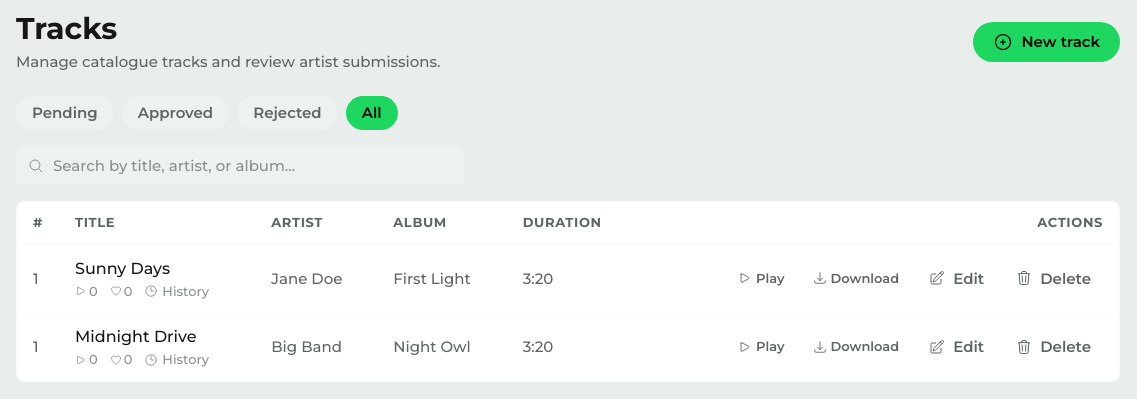
Scenario: AdminTracksListPage search › filters tracks by title, artist, or album — case-insensitively — and shows a no-results state
Expected: the text "Sunny Days" is shown, [75,257,170,281]
Expected: the text "Midnight Drive" is shown, [75,325,196,349]
Type "SUNNY" into the field named "Search tracks" at (240, 166), box [16,146,464,185]
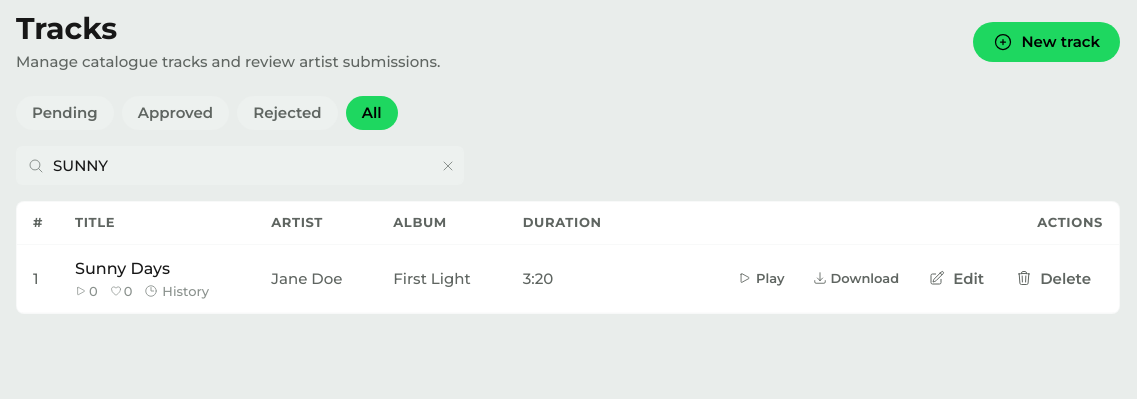
Expected: the text "Sunny Days" is shown, [75,257,170,281]
Now the text "Midnight Drive" is gone
Replace the text in the field named "Search tracks" with "big band" at (240, 166), box [16,146,464,185]
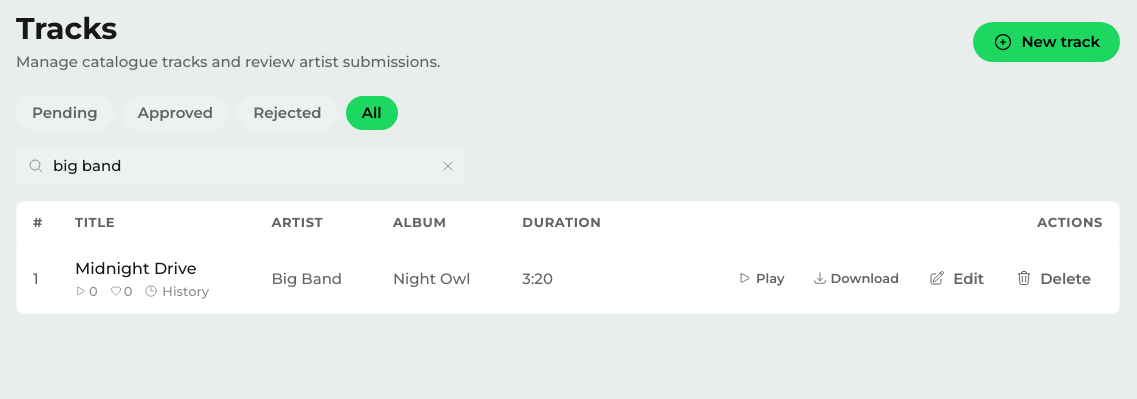
Now the text "Midnight Drive" is shown, box [75,257,196,281]
Now the text "Sunny Days" is gone
Replace the text in the field named "Search tracks" with "night owl" at (240, 166), box [16,146,464,185]
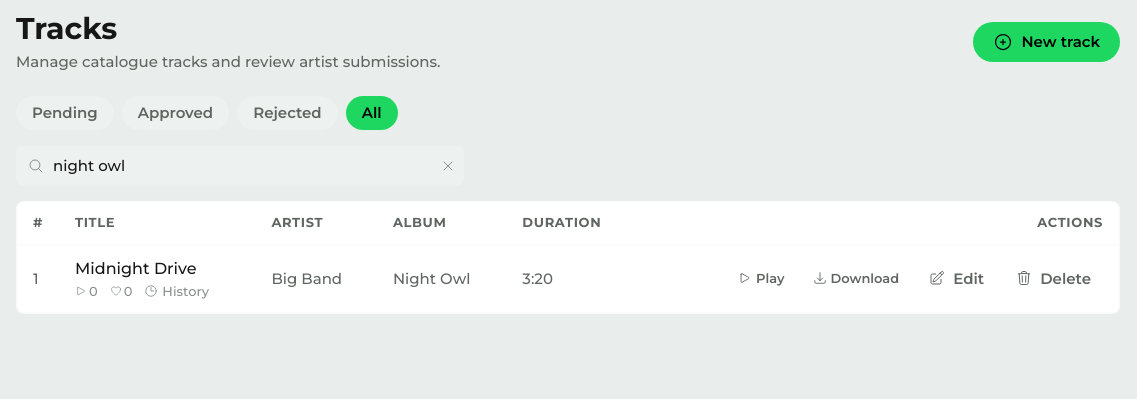
Expected: the text "Sunny Days" is not shown
Now the text "Midnight Drive" is shown, box [75,257,196,281]
Replace the text in the field named "Search tracks" with "nope-nothing-matches" at (240, 166), box [16,146,464,185]
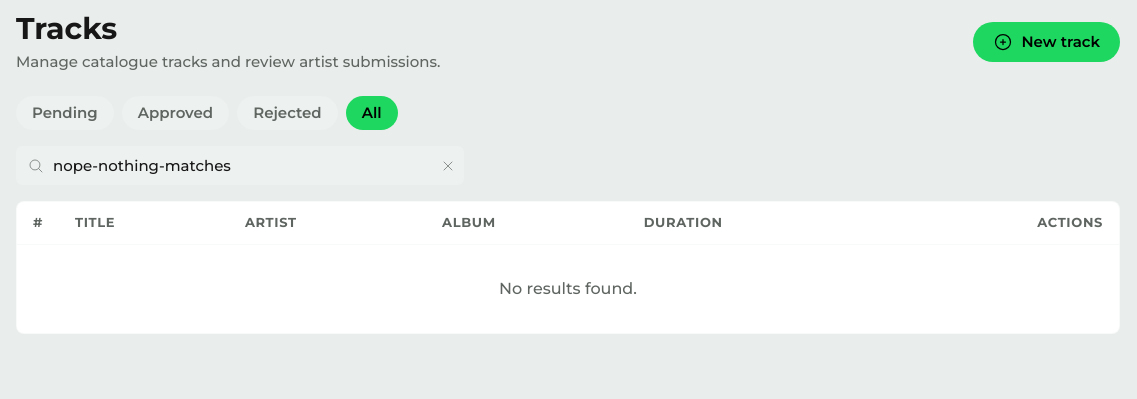
Now the text "No results found." is shown, box [17,244,1119,333]
Clear the field named "Search tracks" at (240, 166), box [16,146,464,185]
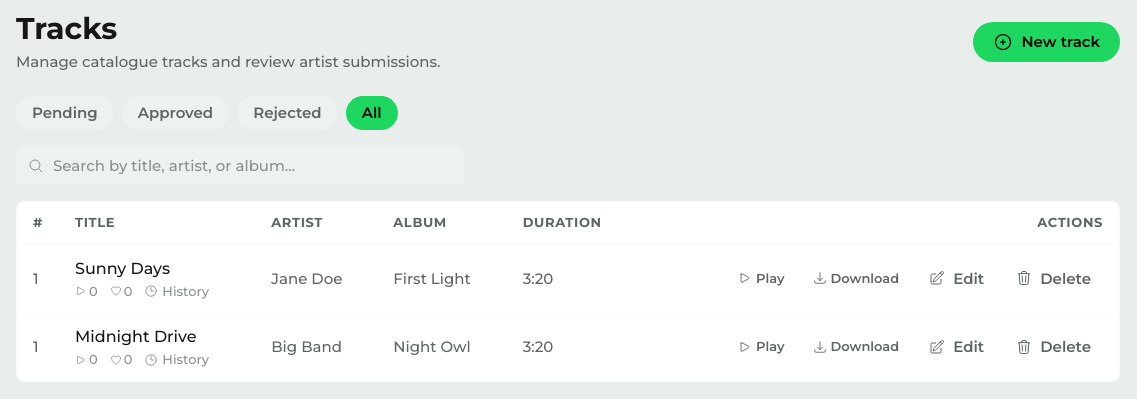
Now the text "Sunny Days" is shown, box [75,257,170,281]
Now the text "Midnight Drive" is shown, box [75,325,196,349]
